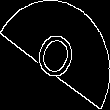O_SW: (29, 22, 81, 88)
